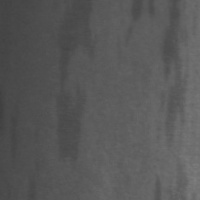inclusion: (53, 0, 101, 167), (158, 7, 193, 148), (2, 99, 27, 170), (120, 2, 146, 49), (149, 172, 167, 200)
